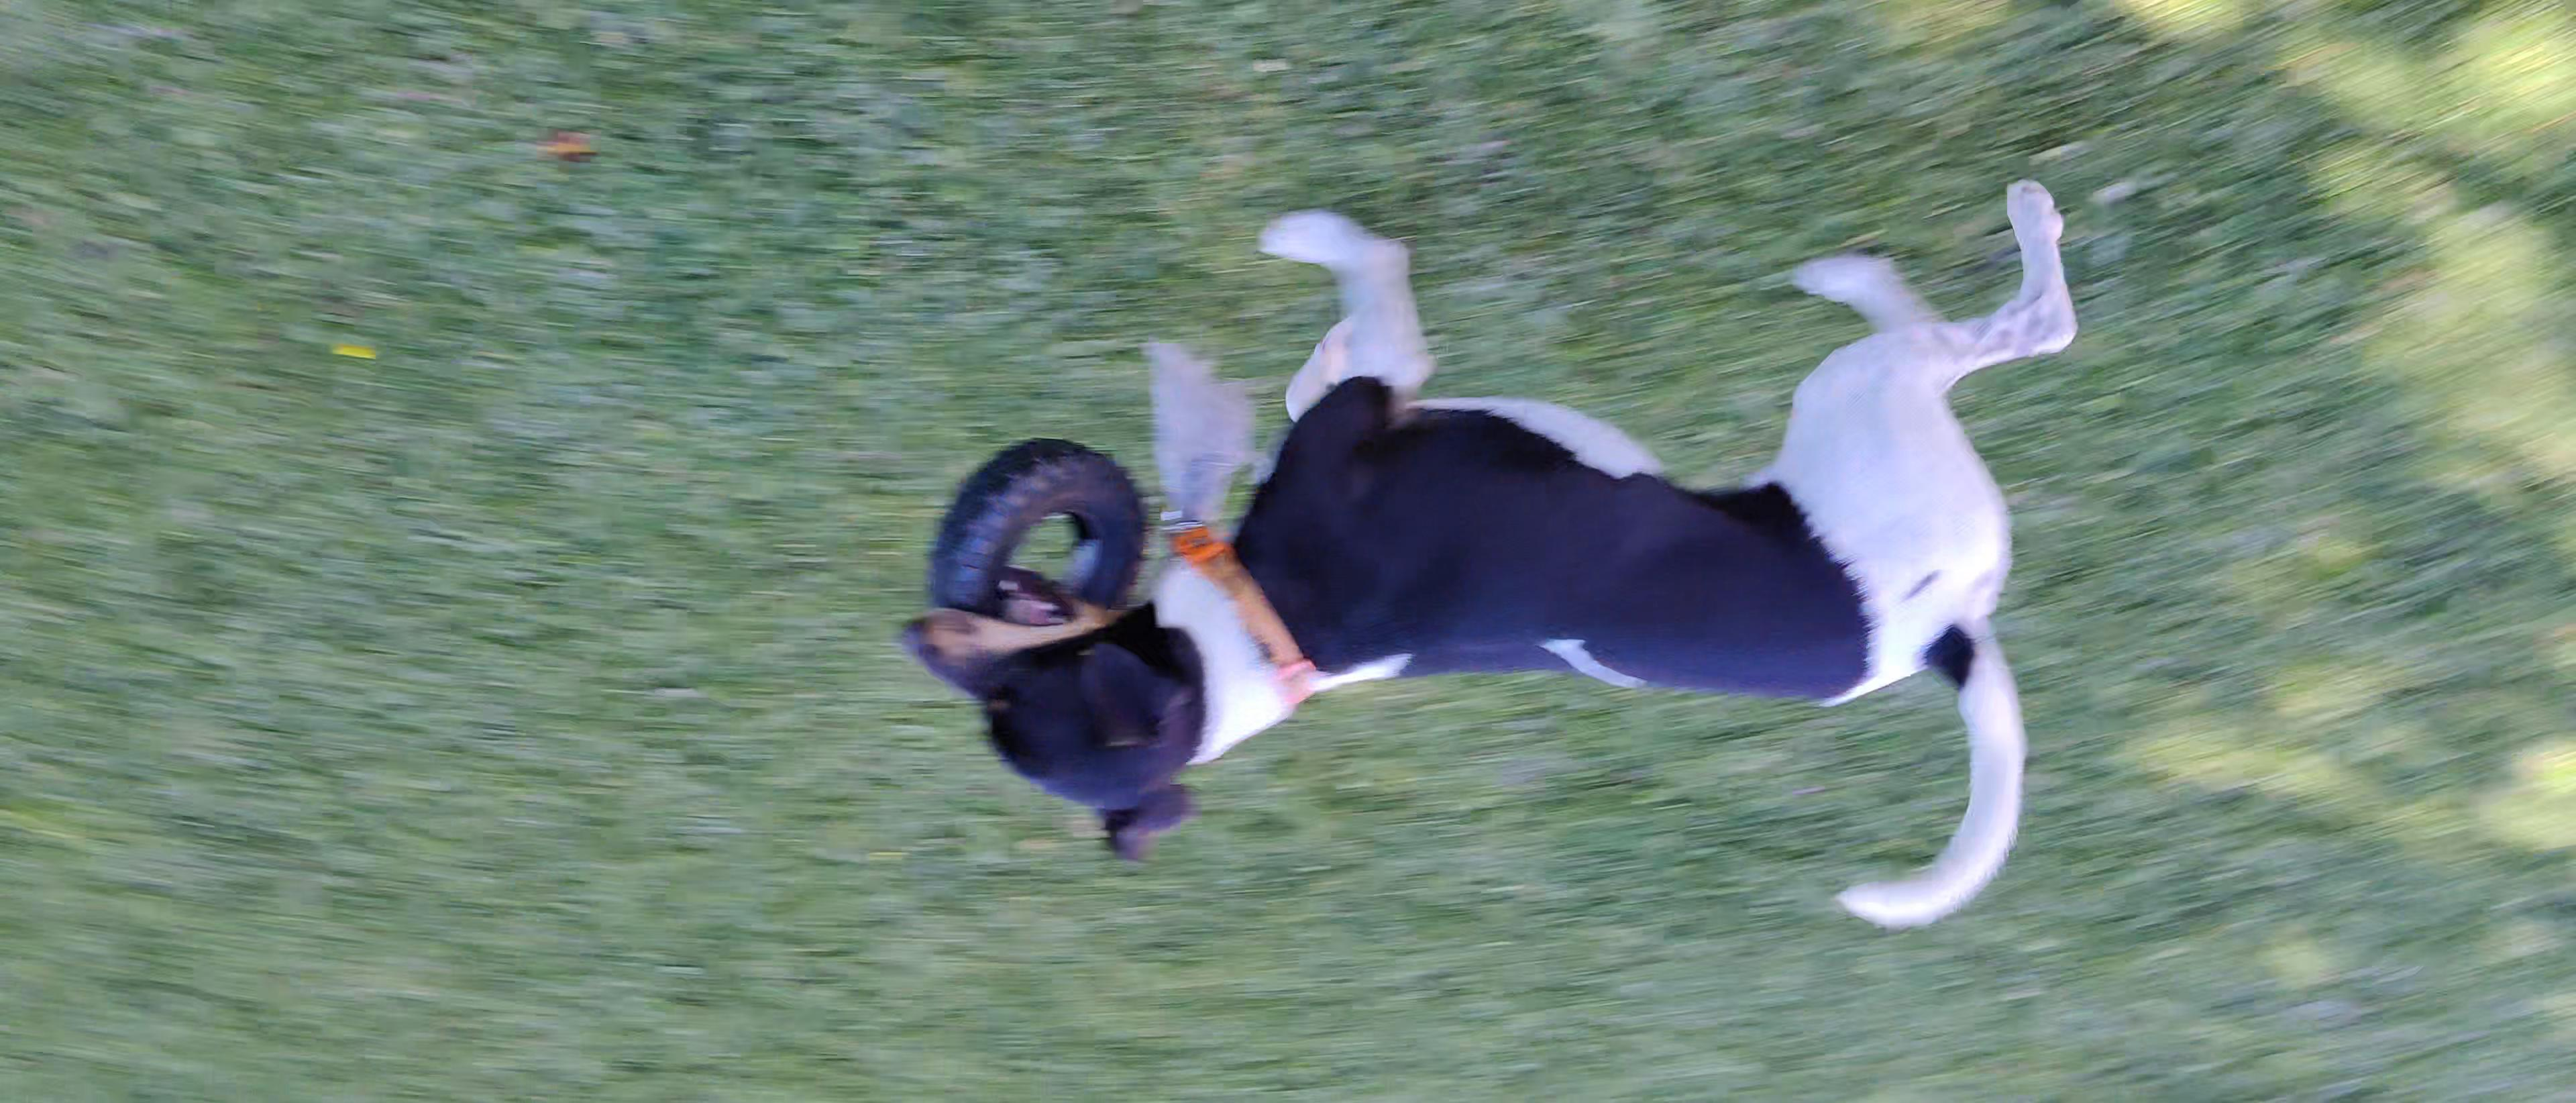Dog: (871, 166, 2088, 945)
